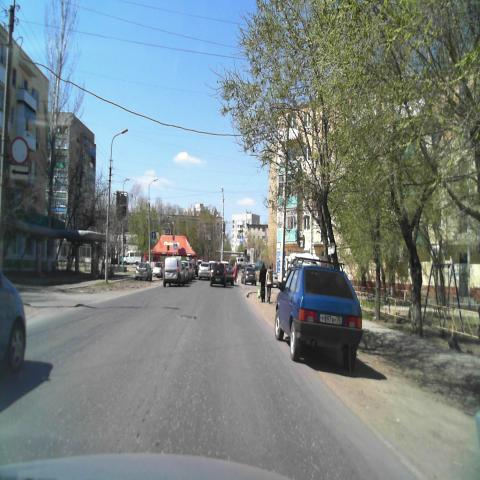3_2: (11, 136, 28, 164)
8_3_2: (9, 166, 29, 180)
